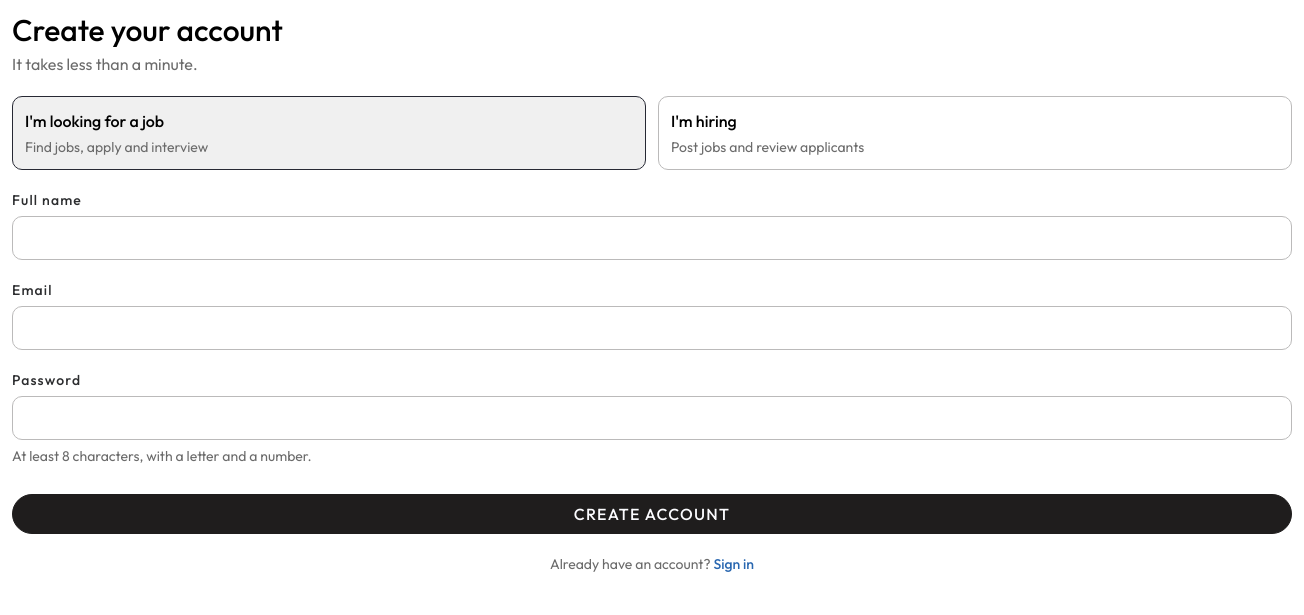
Scenario: RegisterForm › submits the chosen role and shows a duplicate-email error inline
The image size is (1304, 615).
Click the text "I'm hiring": [704, 121] box [671,111,737,131]
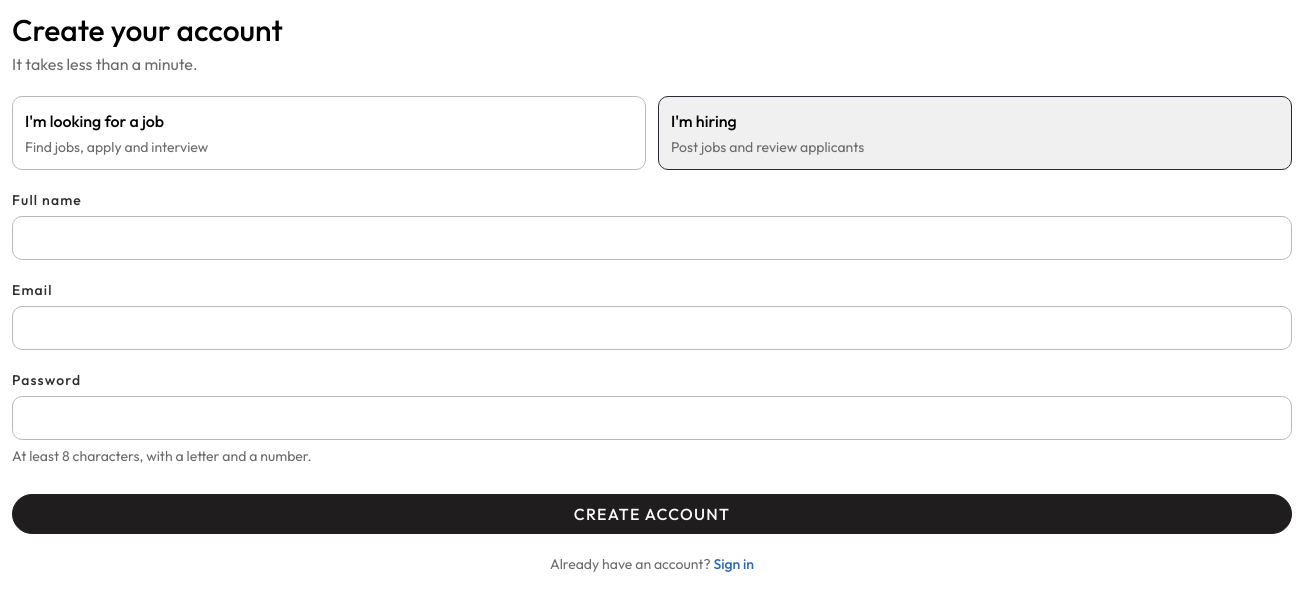
In the field labelled "Full name": [652, 238] box [12,216,1292,260], type "Tanvir Hasan"
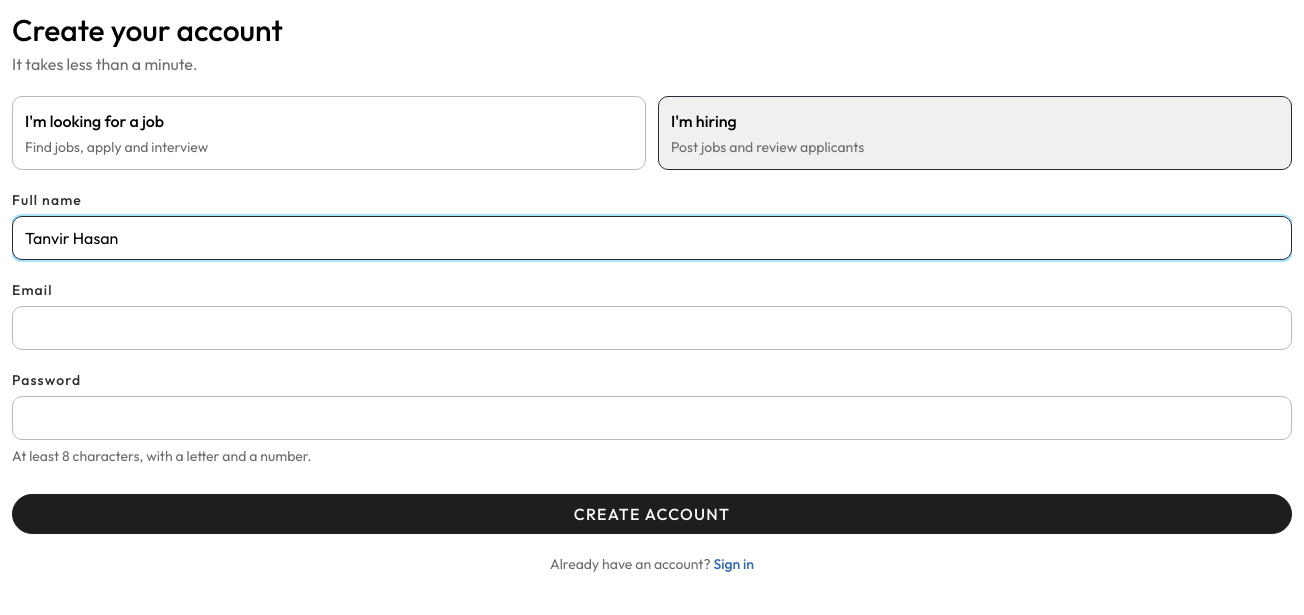
In the field labelled "Email": [652, 328] box [12,306,1292,350], type "t@x.co"
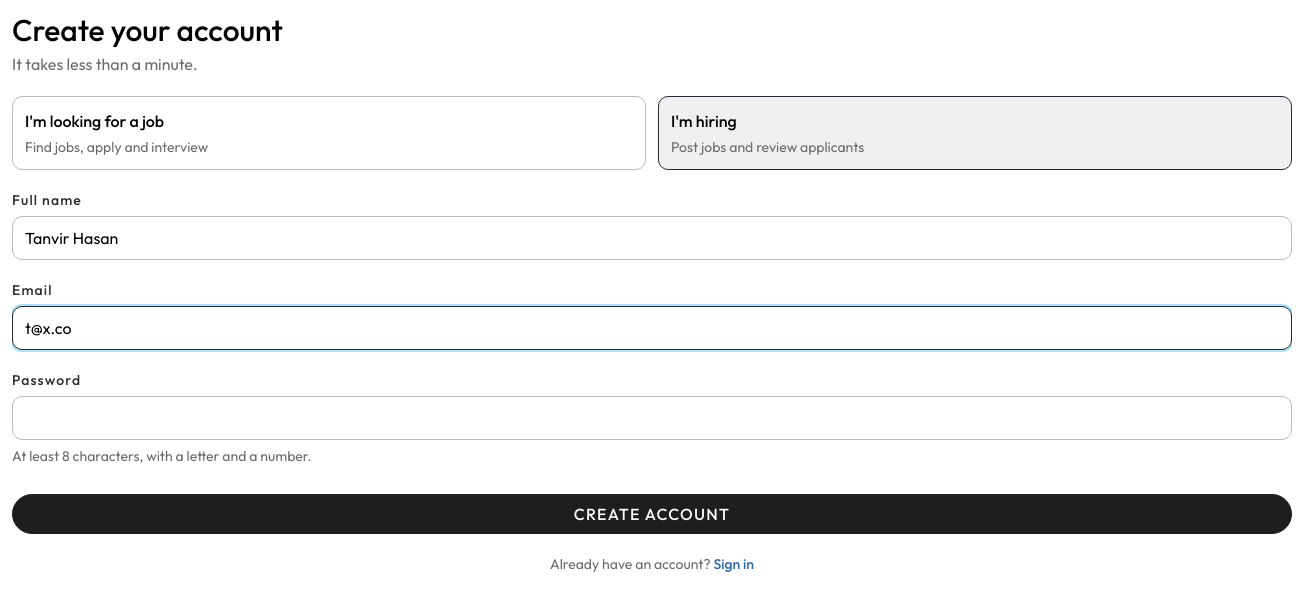
In the password field labelled "Password": [652, 418] box [12,396,1292,440], type "Password123"
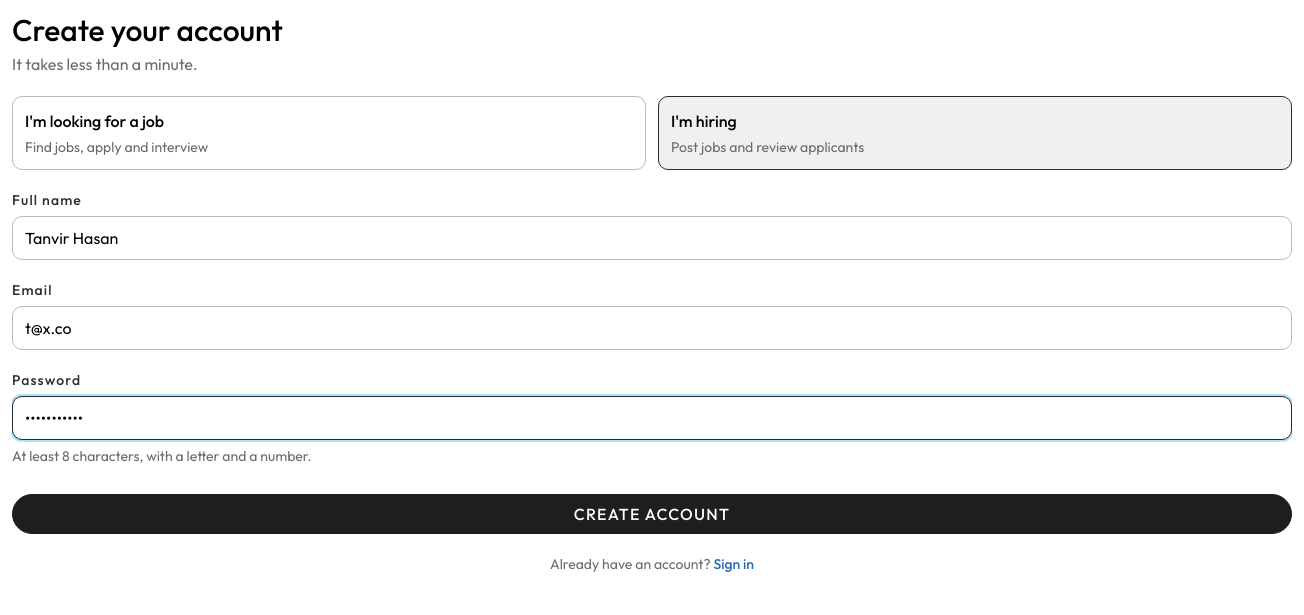
Click the button "Create account": [652, 514] box [12,494,1292,534]
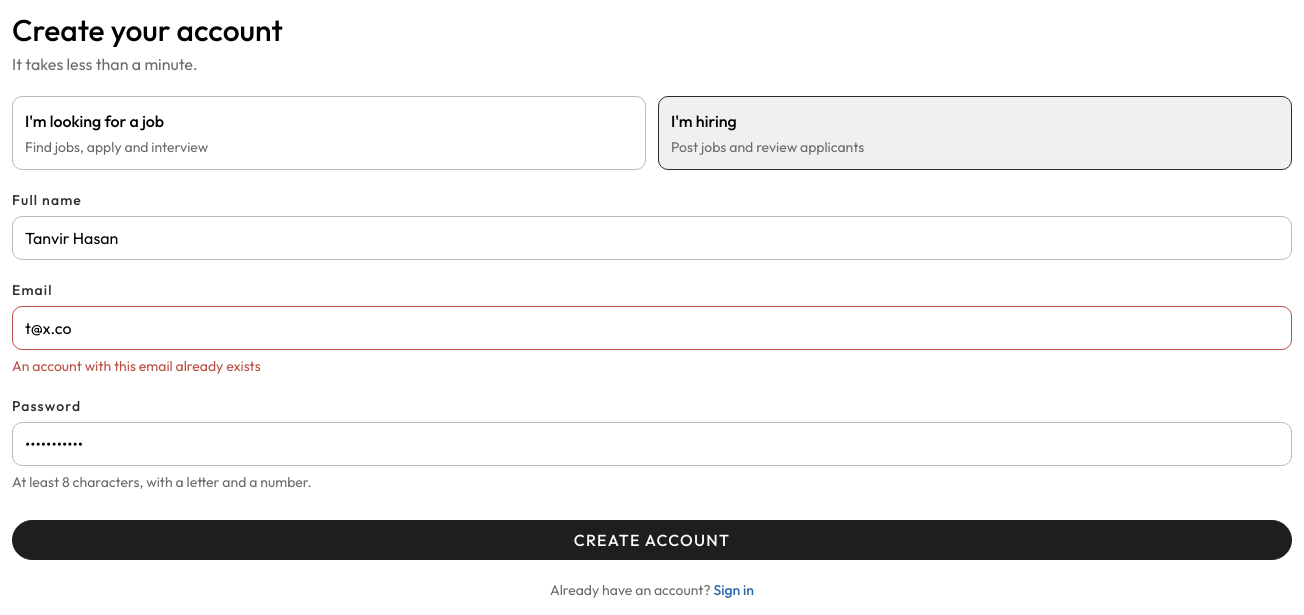
Now the text "An account with this email already exists" is shown, box [12,357,261,375]
